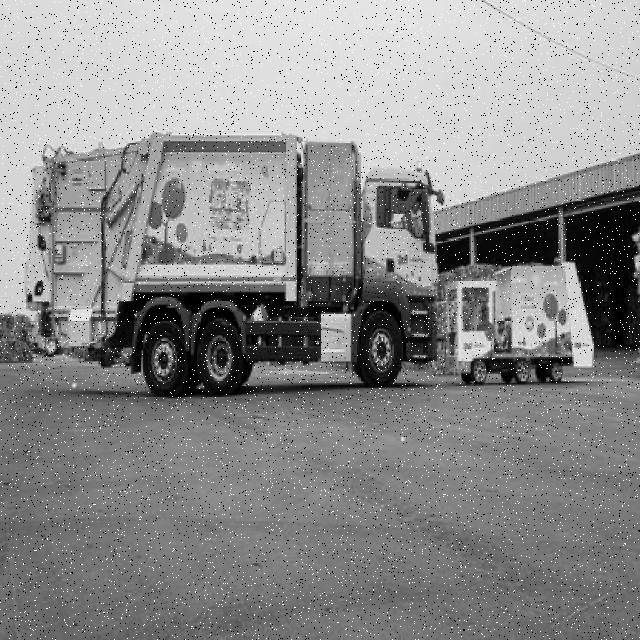Garbage Truck: (23, 133, 437, 398)
